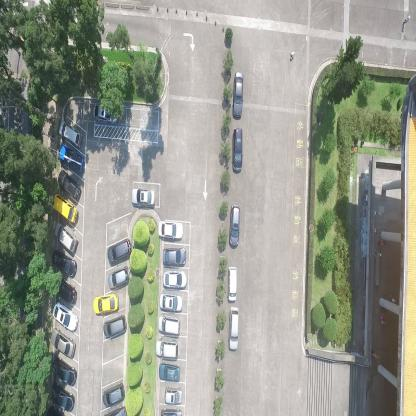car: (51, 194, 78, 224), (49, 330, 76, 360), (51, 249, 77, 279), (54, 223, 79, 254), (52, 303, 78, 332), (49, 382, 75, 411), (57, 169, 81, 200), (107, 235, 132, 264), (58, 146, 84, 172), (52, 359, 77, 386), (101, 380, 125, 408), (58, 119, 82, 146), (102, 315, 127, 340), (92, 294, 120, 315), (229, 204, 242, 249), (231, 126, 243, 174), (232, 72, 244, 119), (228, 306, 240, 352), (155, 337, 179, 360), (53, 279, 76, 303), (93, 102, 118, 124), (108, 266, 131, 289), (131, 186, 156, 207), (159, 292, 184, 312), (158, 314, 181, 335), (162, 246, 186, 266), (158, 220, 183, 239), (163, 270, 187, 289), (158, 363, 180, 382), (227, 266, 237, 303), (164, 386, 182, 406), (160, 408, 183, 416)
